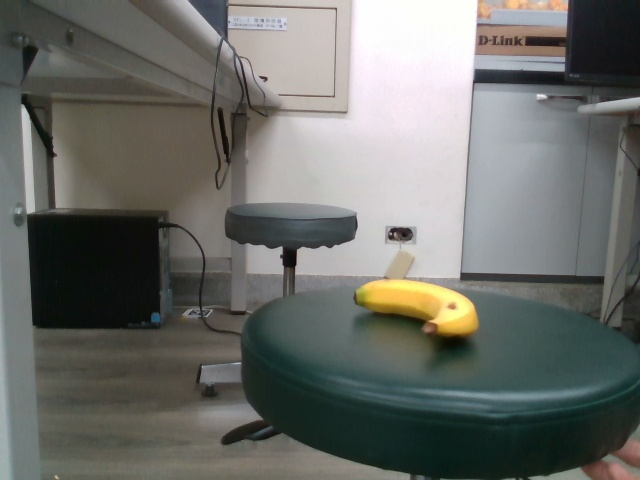banana: (352, 274, 481, 342)
